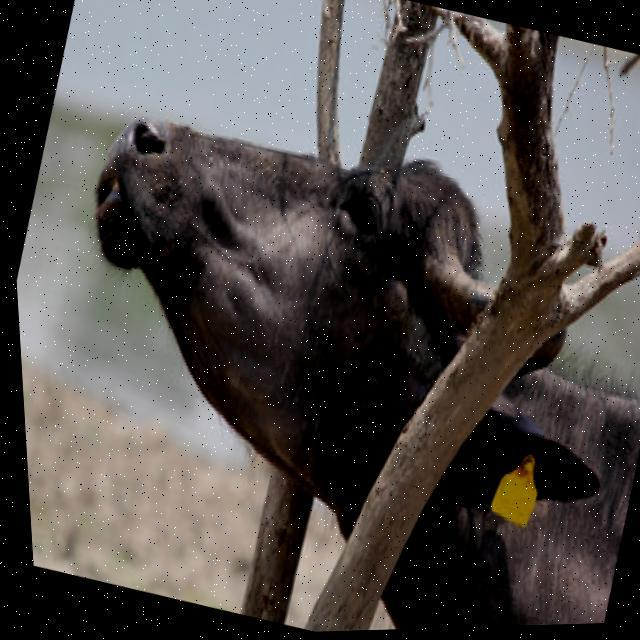Buffalo: (5, 63, 640, 640)
